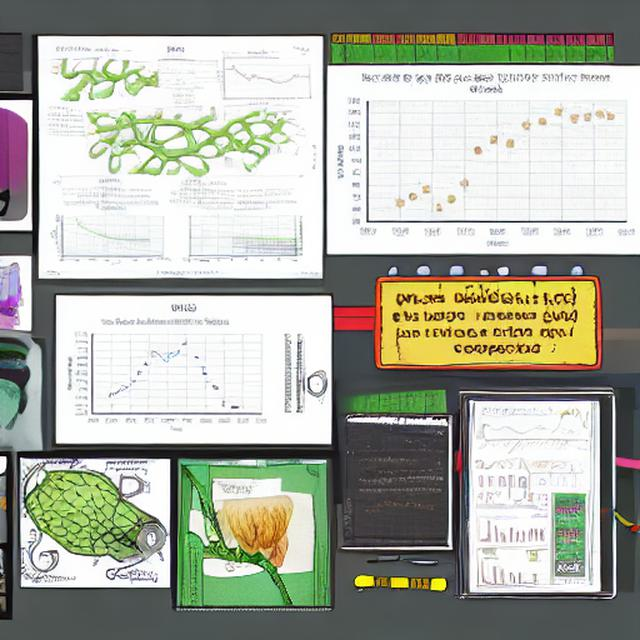Graph: (328, 68, 640, 251), (59, 313, 273, 440), (49, 198, 168, 269), (342, 486, 448, 548), (215, 55, 292, 107), (475, 413, 551, 458), (469, 515, 524, 547)
